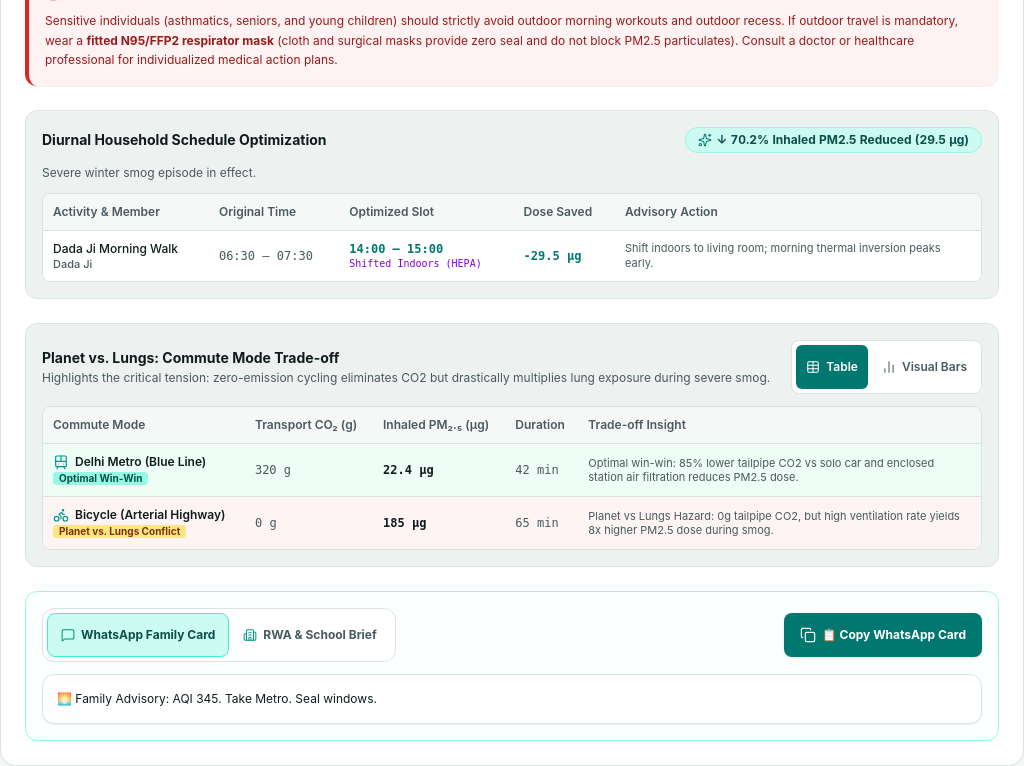
Test: LowEmissionRoutine Component › allows switching between WhatsApp and Community Brief tabs and copying
Later steps or results of the test are not shown.
(page scrolled)
Expected: the text "🌅 Family Advisory: AQI 345. Take Metro. Seal windows." is shown, [42,674,982,724]
Click the button "RWA & School Brief" at [310, 635], box [229,613,391,657]
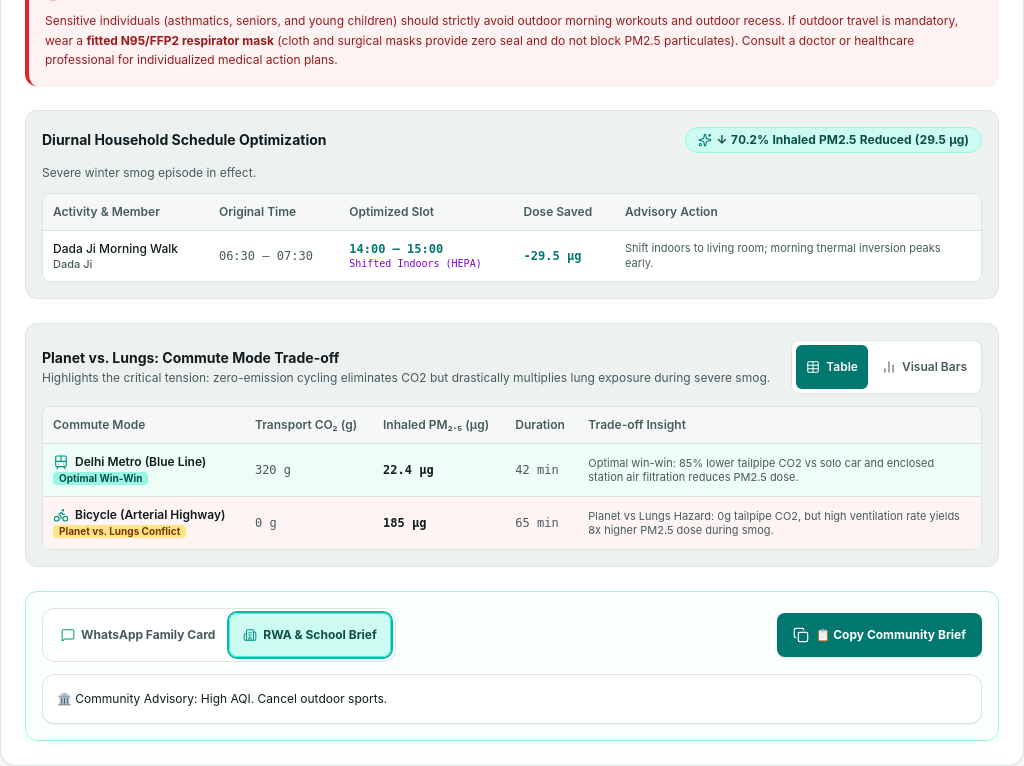
Result: the text "🏛️ Community Advisory: High AQI. Cancel outdoor sports." is shown at [42,674,982,724]
